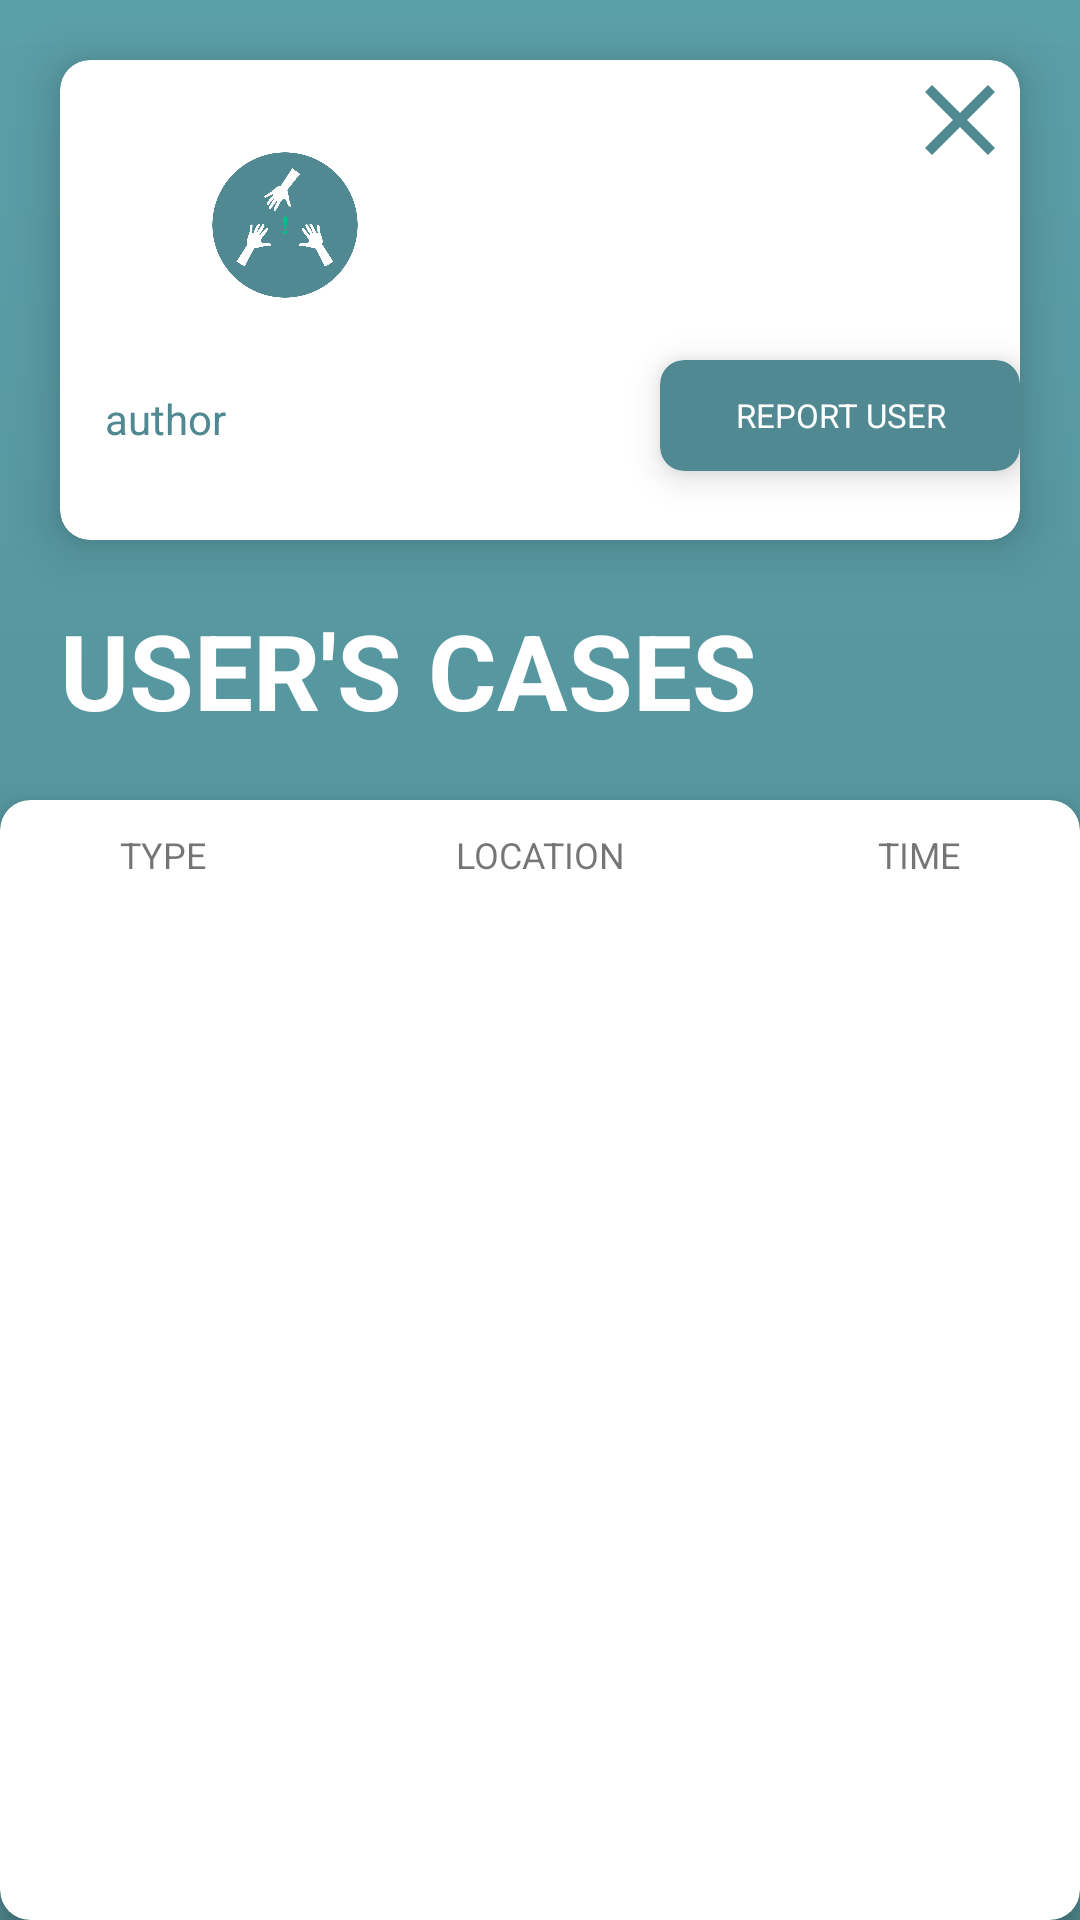

Point at icon controls on the screen. Image size 1080*1920, points as (x,y).
close: (960,120)
